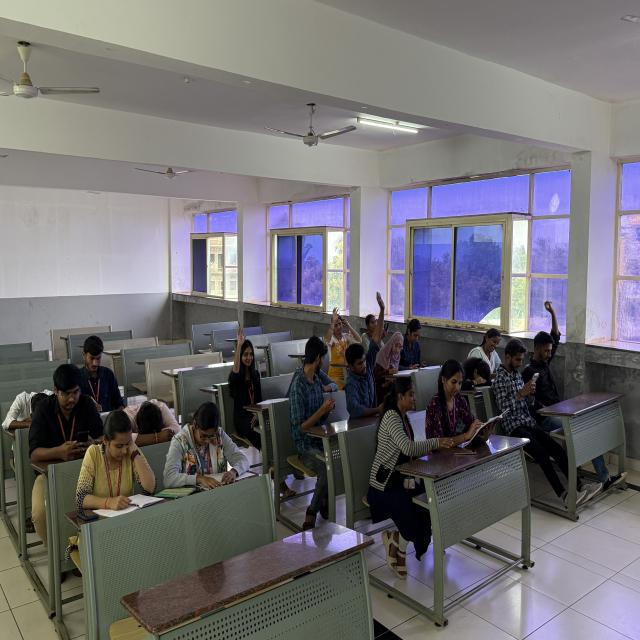Classroom-Students-Behavior: (342, 289, 403, 419)
Hand Rising: (223, 320, 278, 437), (523, 291, 567, 437)
Reading: (158, 397, 255, 502), (79, 401, 162, 521), (421, 357, 511, 464)
Sleeping: (123, 379, 182, 444)
Using Phone: (23, 363, 108, 474), (71, 333, 139, 409)
Writing: (375, 324, 413, 385)
